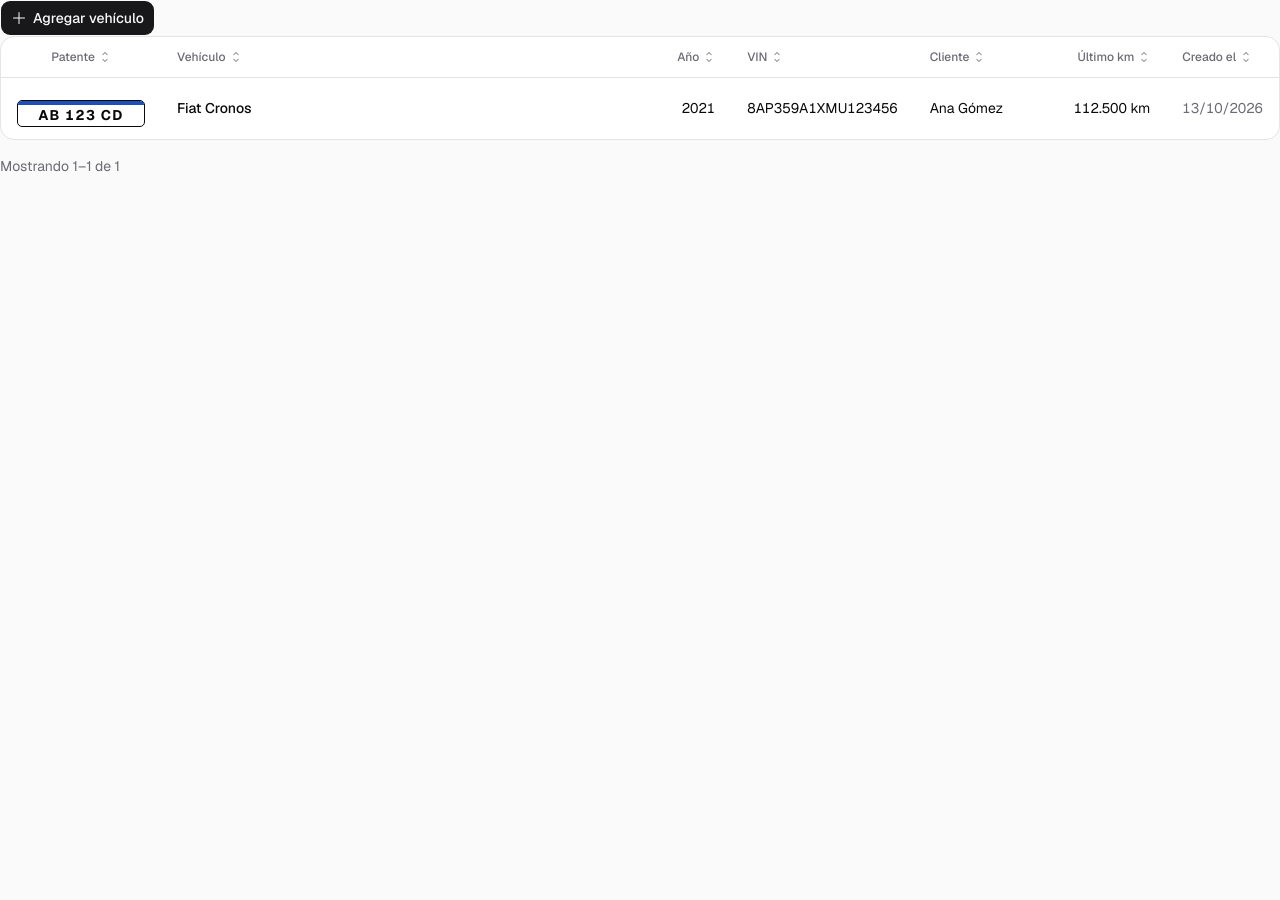
Test: VehiclesTable › opens the create form from Agregar vehículo
Click the button "Agregar vehículo". click: (78, 18)
box: left=0, top=0, right=155, bottom=36
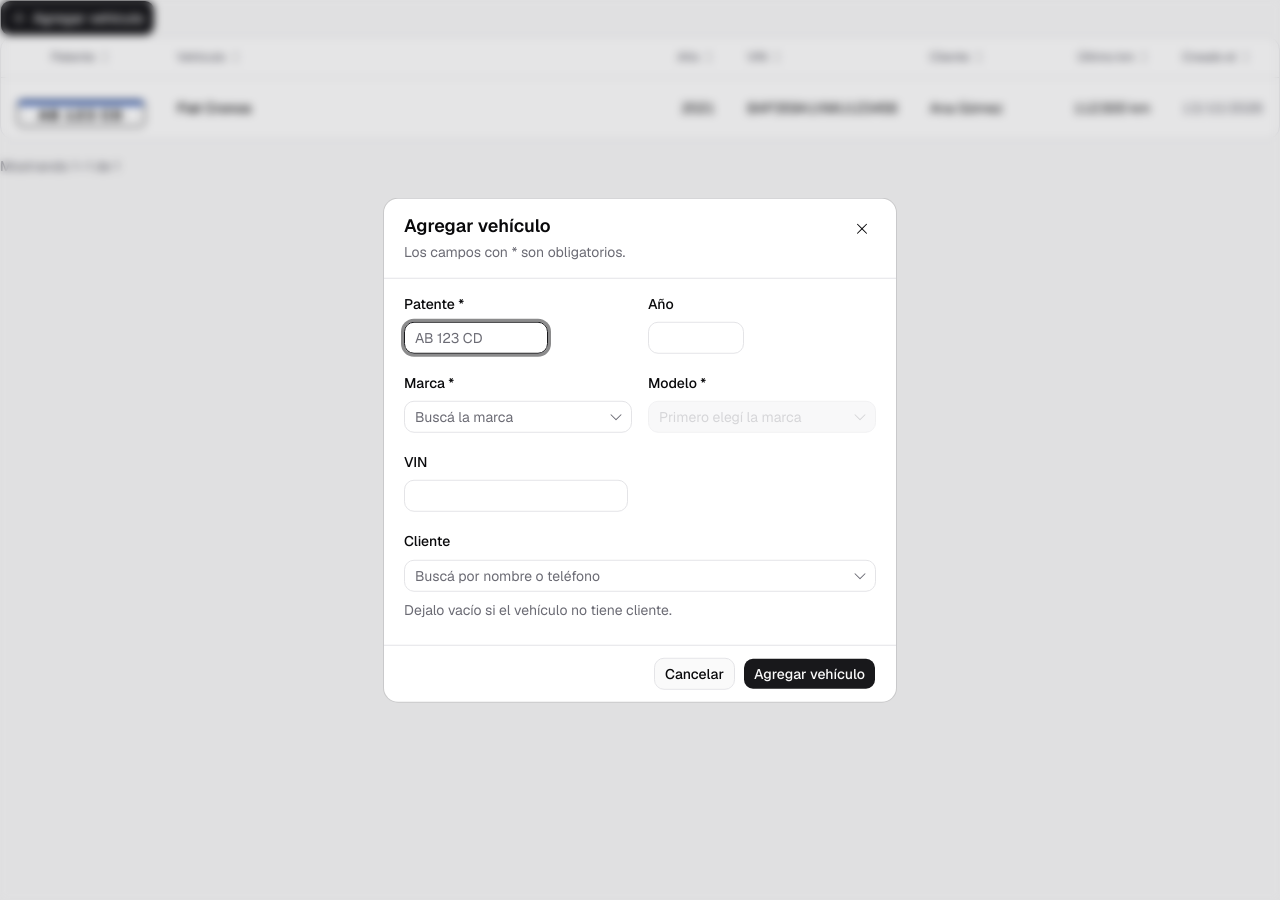
Check: the dialog "Agregar vehículo" is shown, box left=384, top=199, right=896, bottom=701
